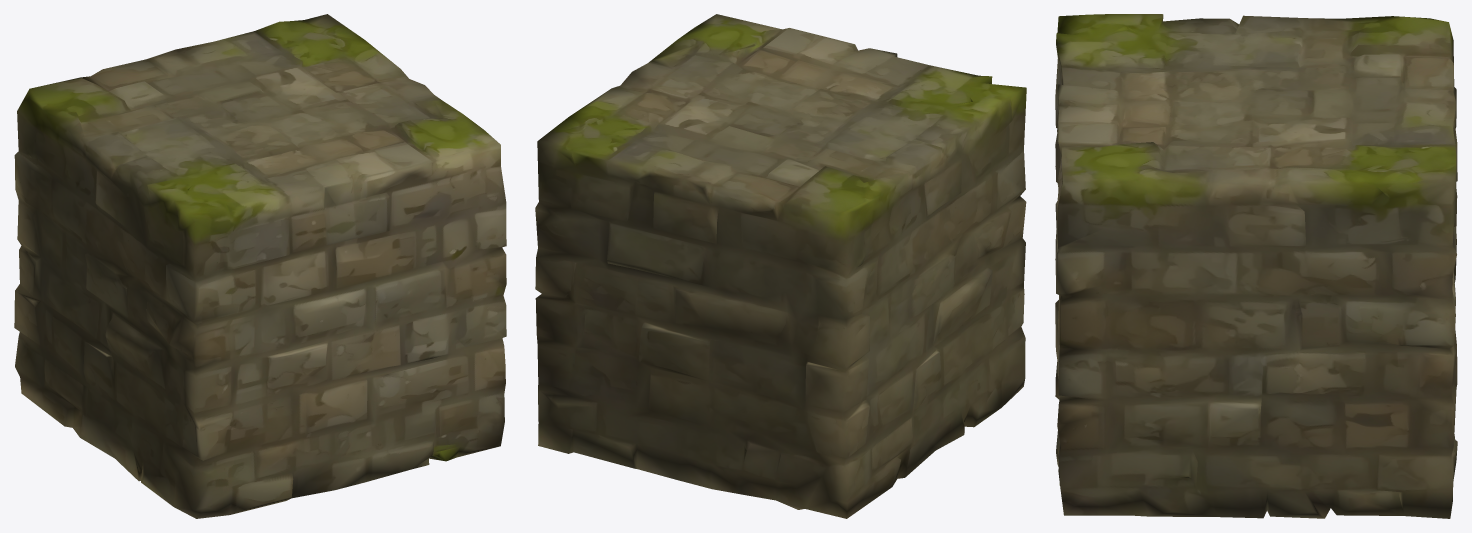
The model's file is Wall_C0_Base.glb.
3 renders of one model, left to right at view 1: azimuth 30°, elevation 25°; view 2: azimuth 150°, elevation 25°; view 3: azimuth 270°, elevation 25°, orthographic. The views are drawn at different scales.
Visible parts, largest first — view 1: tripo_node_4b81598a-fdf7-4141-b632-6e9cbf0a15fa; view 2: tripo_node_4b81598a-fdf7-4141-b632-6e9cbf0a15fa; view 3: tripo_node_4b81598a-fdf7-4141-b632-6e9cbf0a15fa.
Boxes of the visible parts, left/top/right/bottom form: tripo_node_4b81598a-fdf7-4141-b632-6e9cbf0a15fa: left=14, top=14, right=506, bottom=518; tripo_node_4b81598a-fdf7-4141-b632-6e9cbf0a15fa: left=535, top=14, right=1026, bottom=518; tripo_node_4b81598a-fdf7-4141-b632-6e9cbf0a15fa: left=1055, top=14, right=1457, bottom=518.
Size of the model in its own units: 1 by 0.9422 by 0.997.
Materials: 1 (1 with a texture image).
